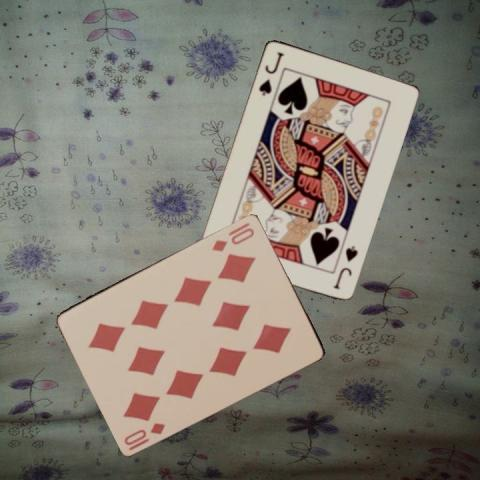10d: (121, 419, 167, 451), (209, 224, 256, 253)
Js: (255, 48, 285, 96), (330, 242, 359, 291)
